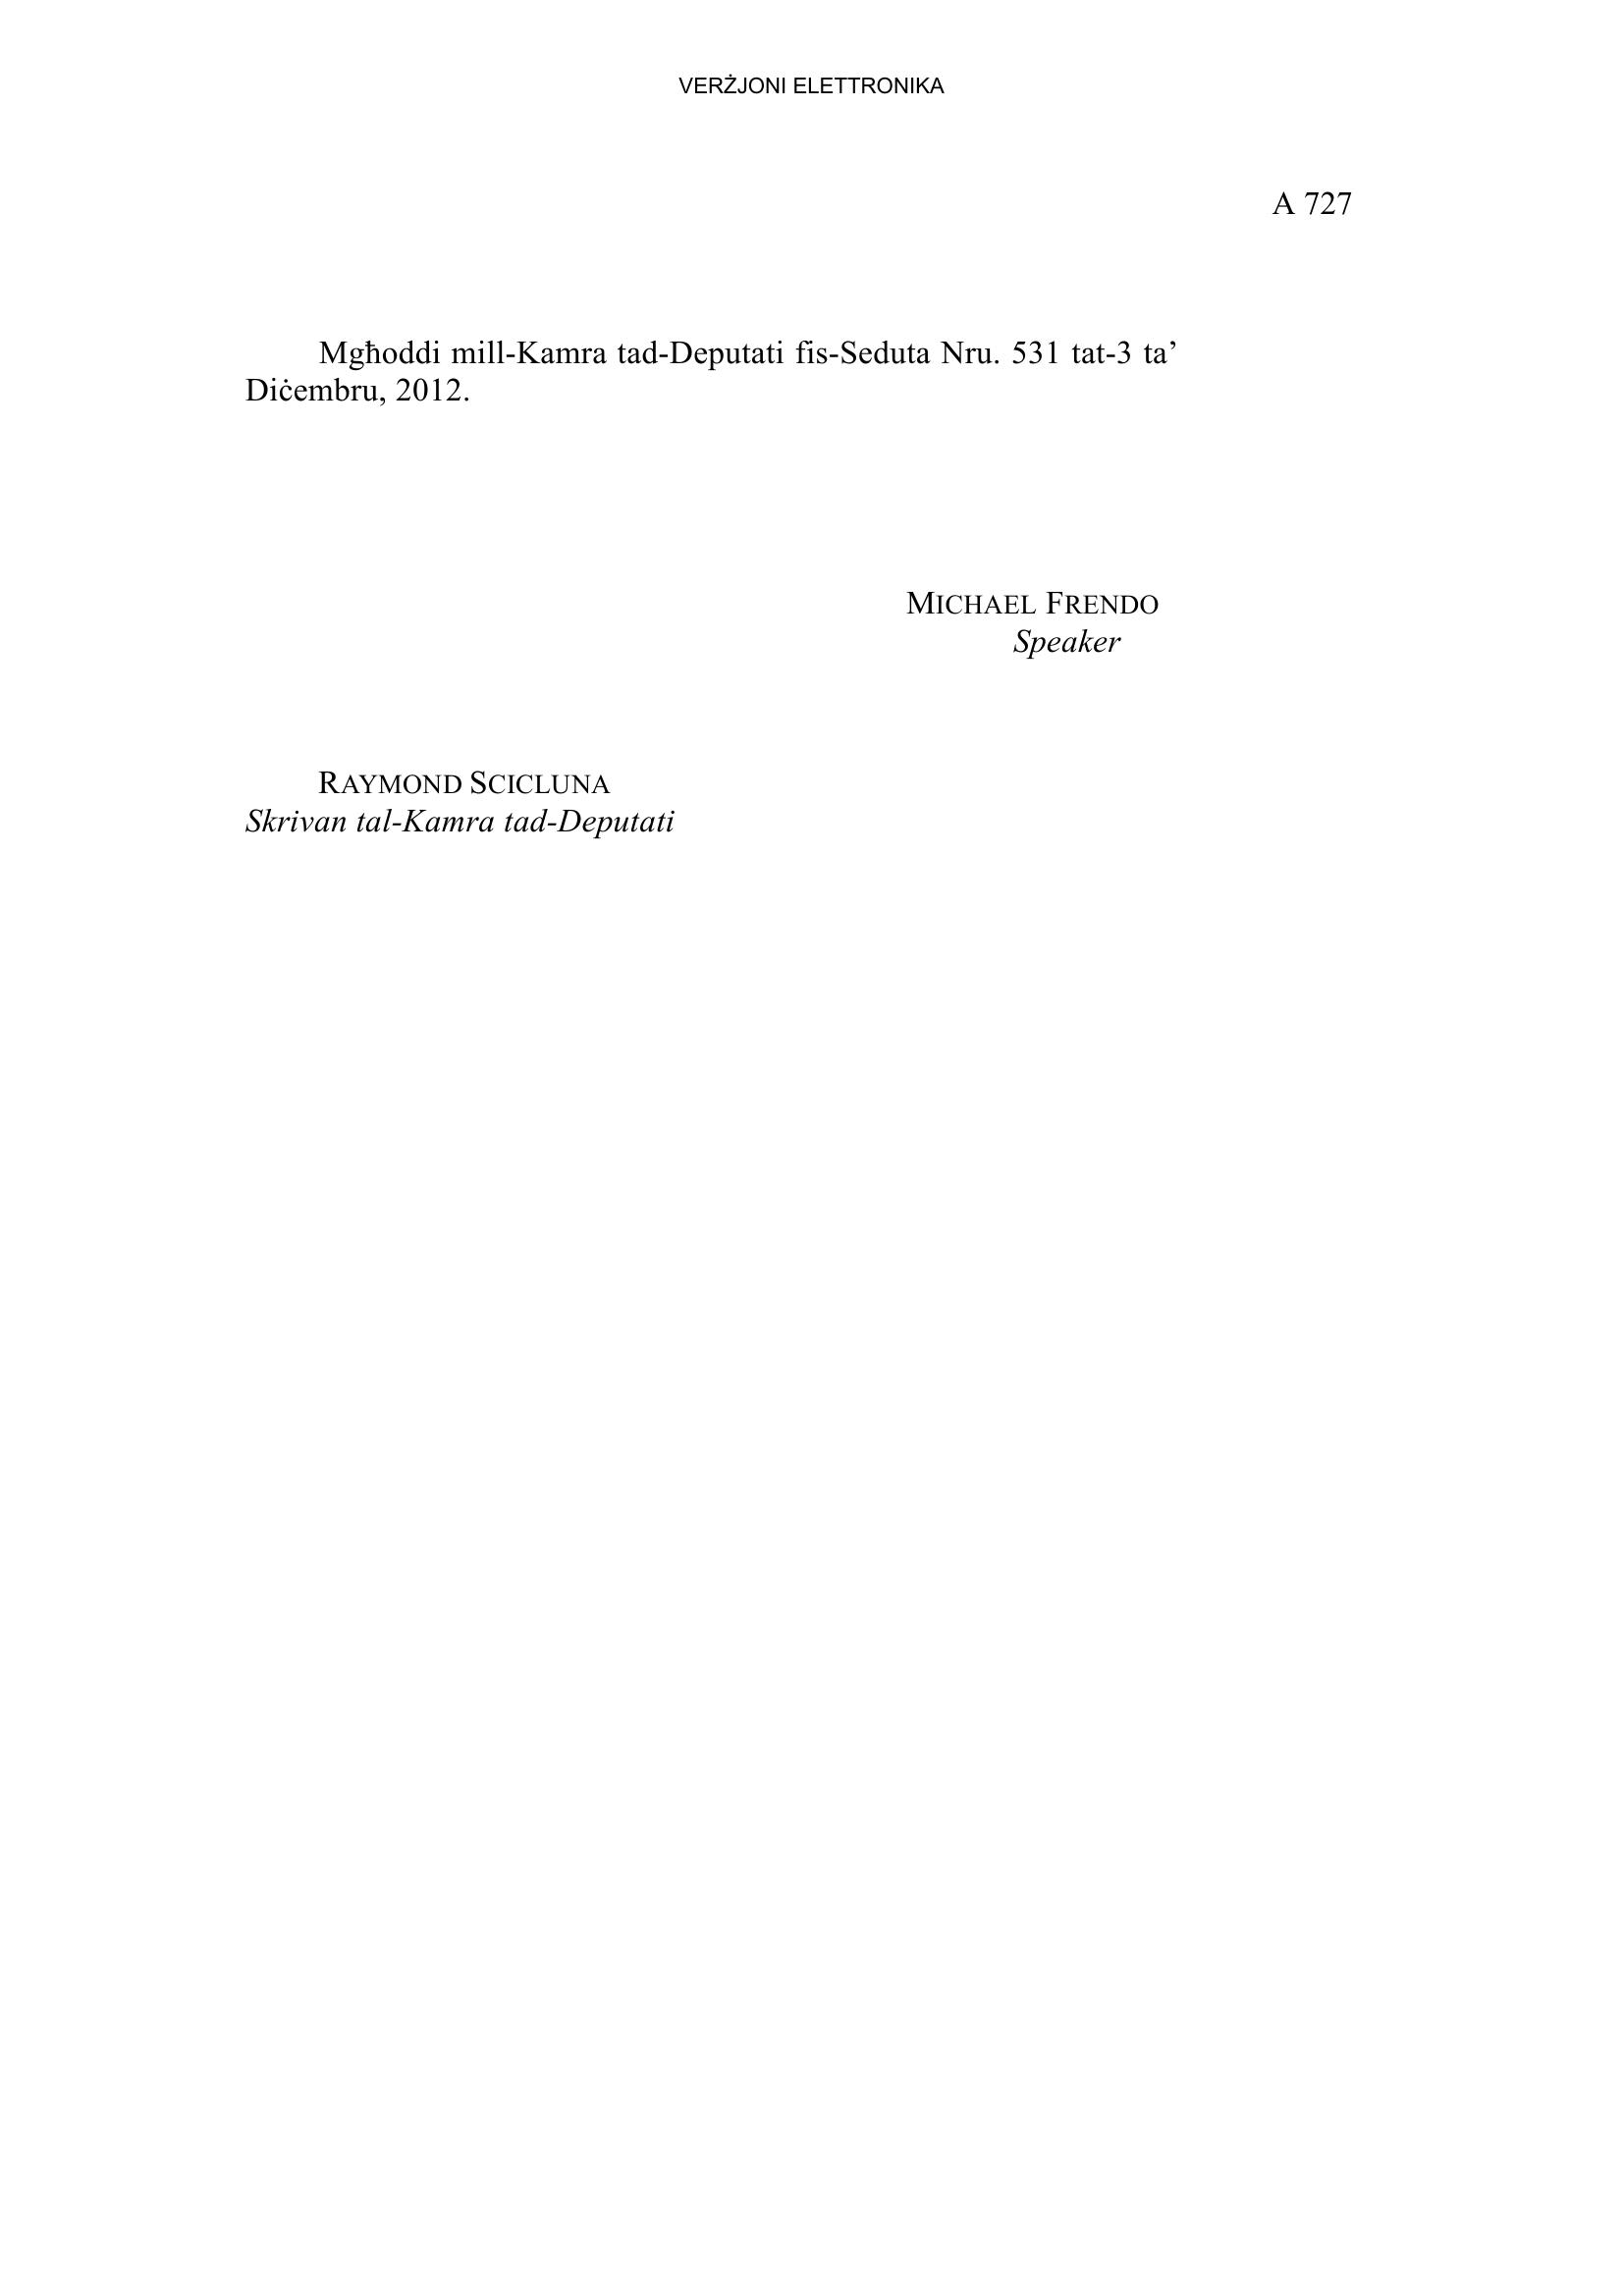text: (179, 309, 1190, 856)
